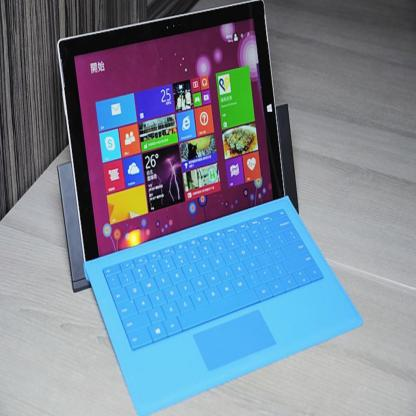board: (52, 13, 362, 407)
